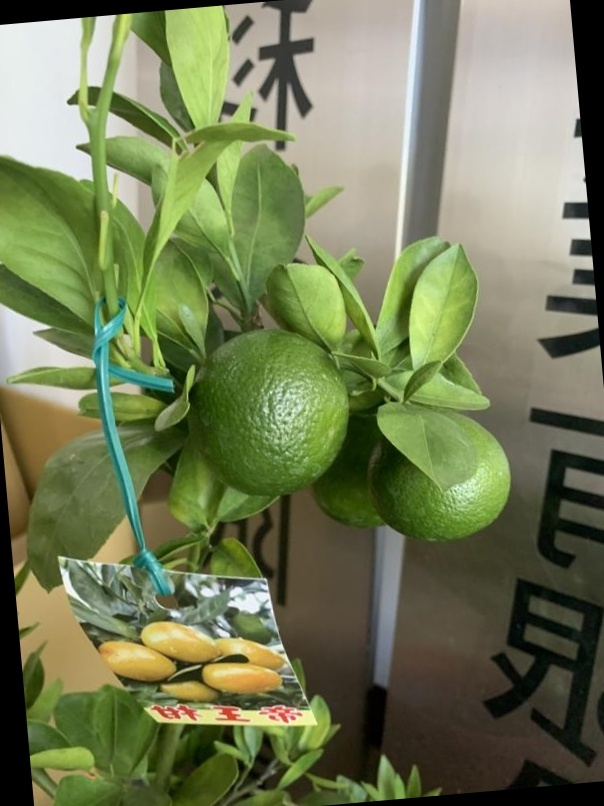Tangerine: (189, 326, 356, 493), (376, 419, 517, 544)
